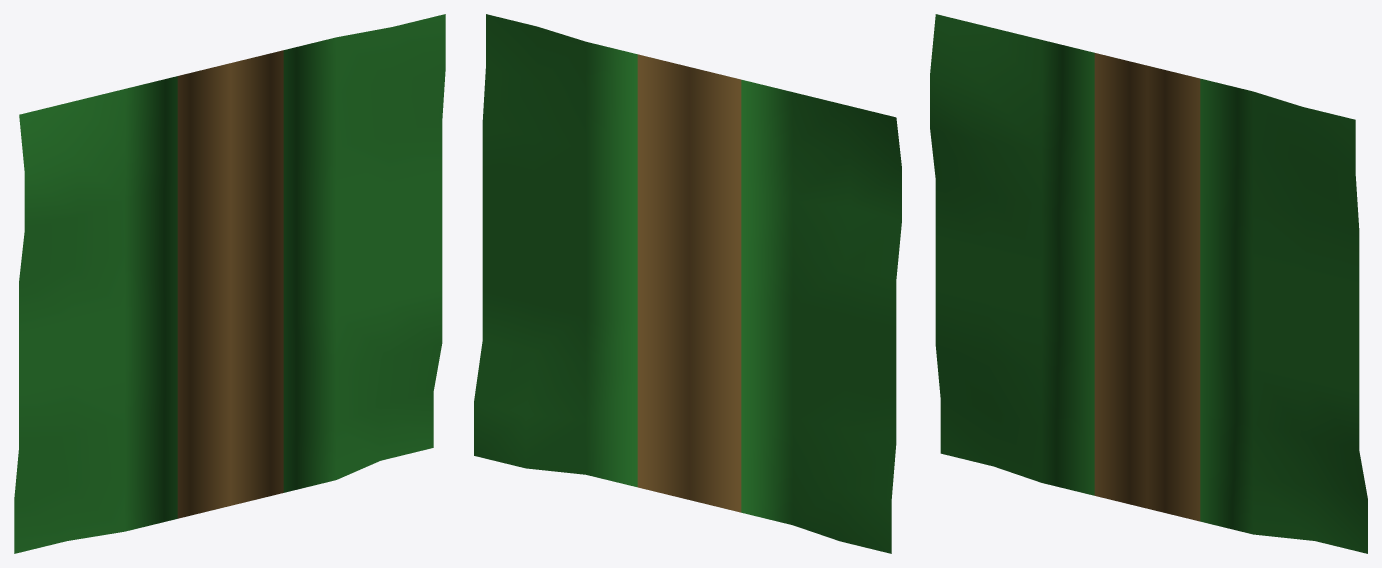
File: Ground.fbx
3 views of the same model, side by side, from view 1: azimuth 30°, elevation 25°; view 2: azimuth 150°, elevation 25°; view 3: azimuth 330°, elevation 25° (orthographic). The views are drawn at different scales.
Parts seen in each view (by area): view 1: Plane; view 2: Plane; view 3: Plane.
Boxes of the visible parts, x1,y1,x2,y2 form: Plane: (14, 14, 445, 553); Plane: (474, 14, 901, 553); Plane: (930, 14, 1367, 553).
Size of the model in its own units: 10000 by 10000 by 589.
